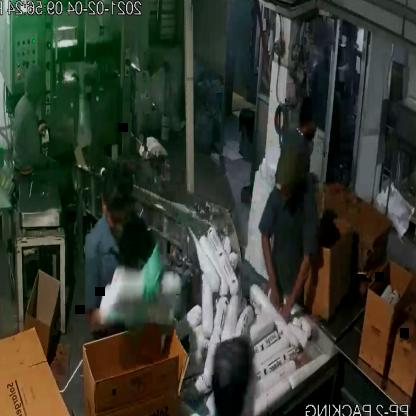glove: (135, 237, 166, 319)
no_glove: (256, 206, 295, 316), (279, 233, 324, 328)
